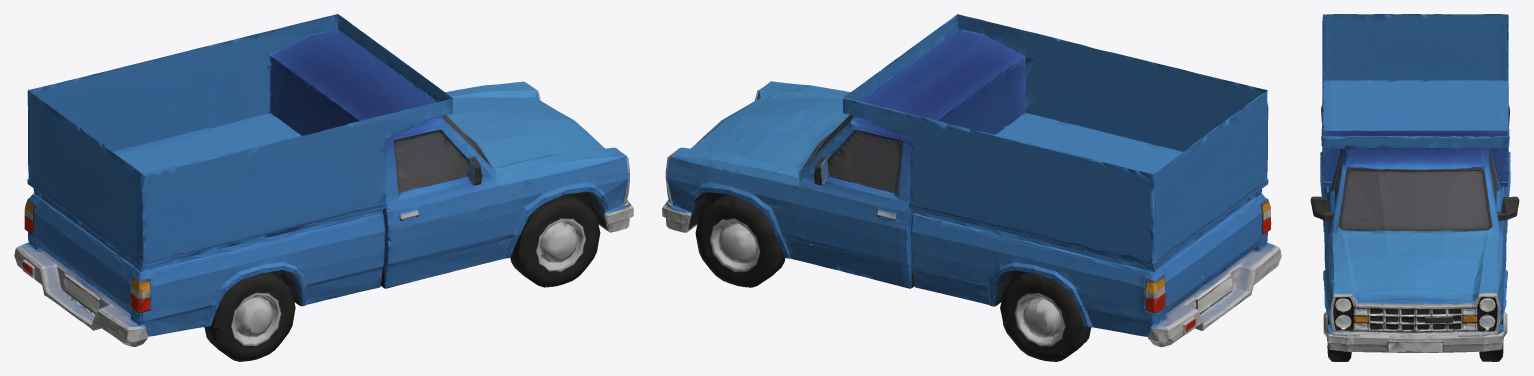
The model's file is nissanabi.glb.
3 renders of one model, left to right at view 1: azimuth 30°, elevation 25°; view 2: azimuth 150°, elevation 25°; view 3: azimuth 270°, elevation 25°, orthographic. The views are drawn at different scales.
Visible parts, largest first — view 1: body, Right_Front_Wheel, Right_Back_Wheel; view 2: body, Left_Front_Wheel, Left_Back_Wheel; view 3: body, Left_Front_Wheel, Right_Front_Wheel.
Part boxes in pixels (<box>): body: <box>14,14,633,346</box>; Right_Front_Wheel: <box>510,194,600,287</box>; Right_Back_Wheel: <box>204,272,295,361</box>; body: <box>662,14,1281,347</box>; Left_Front_Wheel: <box>695,194,785,287</box>; Left_Back_Wheel: <box>1000,272,1091,361</box>; body: <box>1310,14,1519,352</box>; Left_Front_Wheel: <box>1479,311,1507,361</box>; Right_Front_Wheel: <box>1323,311,1351,361</box>.
Size of the model in its own units: 1 by 0.4018 by 0.4287.
Materials: 2 (2 with a texture image).
